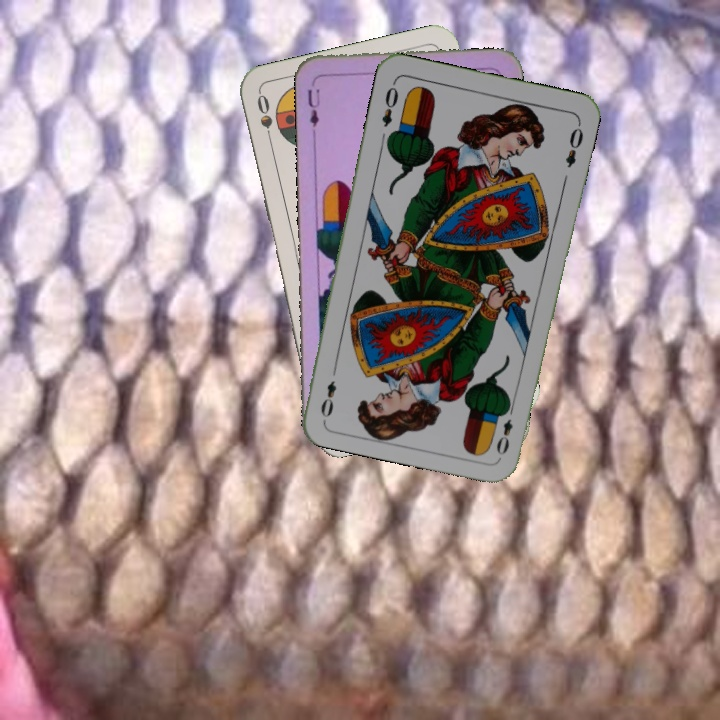EO: (492, 400, 517, 458), (377, 78, 401, 130)
EU: (304, 77, 322, 136)
SO: (253, 90, 276, 149)
